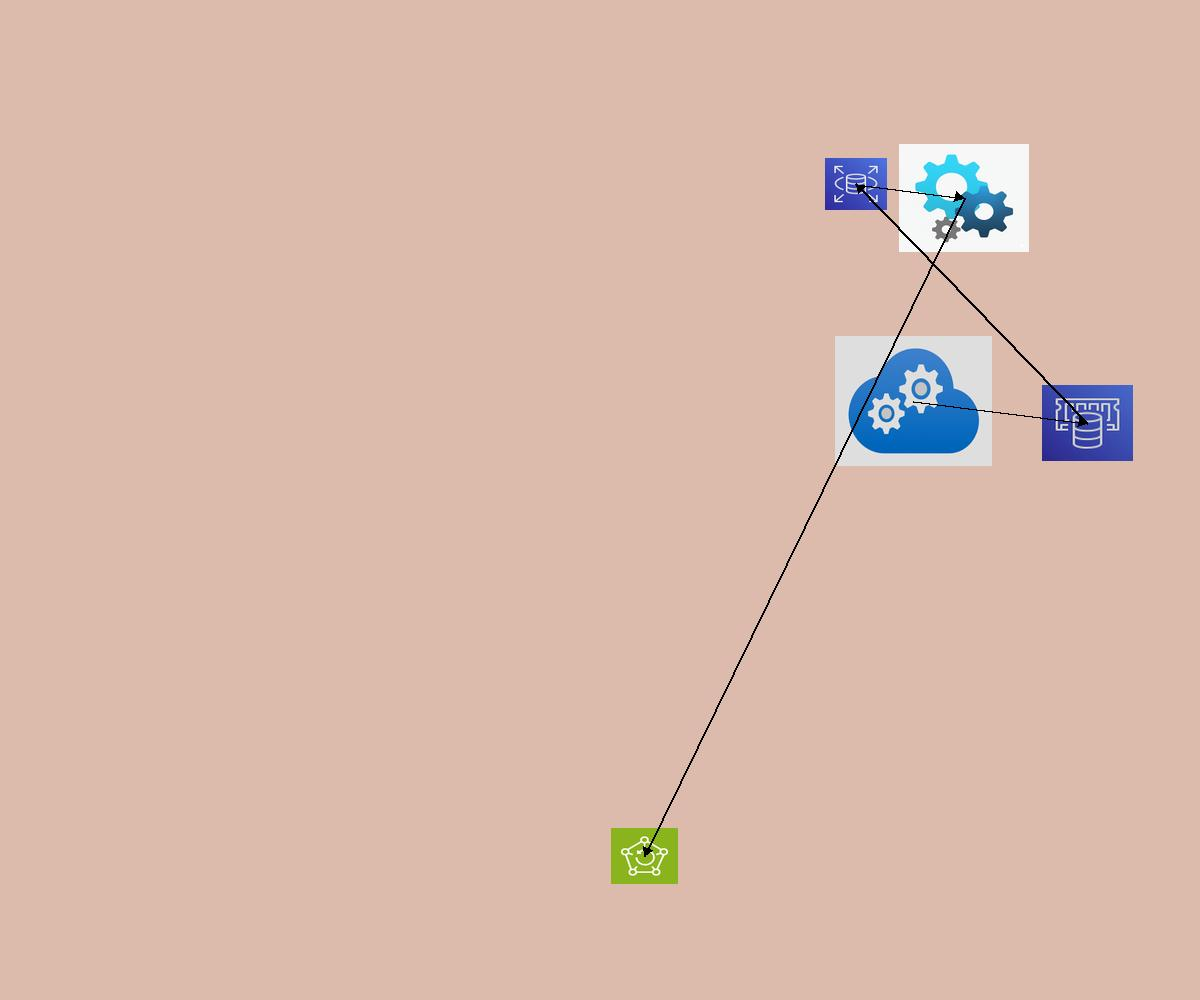AWS-Backup: (611, 828, 678, 884)
AWS-ElastiCache: (1042, 385, 1133, 461)
AWS-RDS: (825, 158, 887, 210)
Azure_api: (899, 144, 1029, 252)
Azure_cloud_services: (835, 336, 992, 466)
